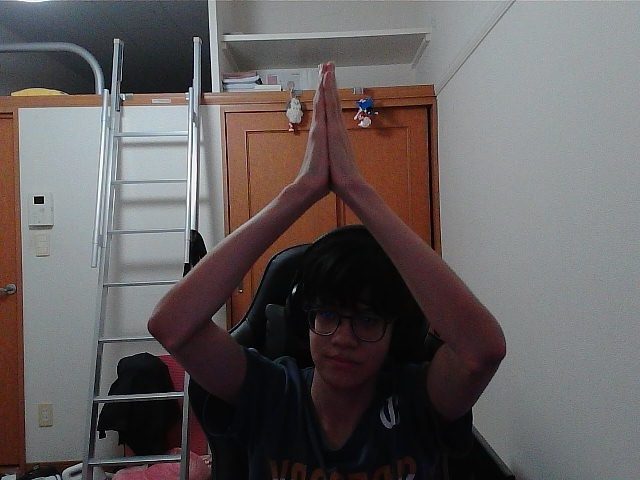pray: (322, 79, 333, 180)
